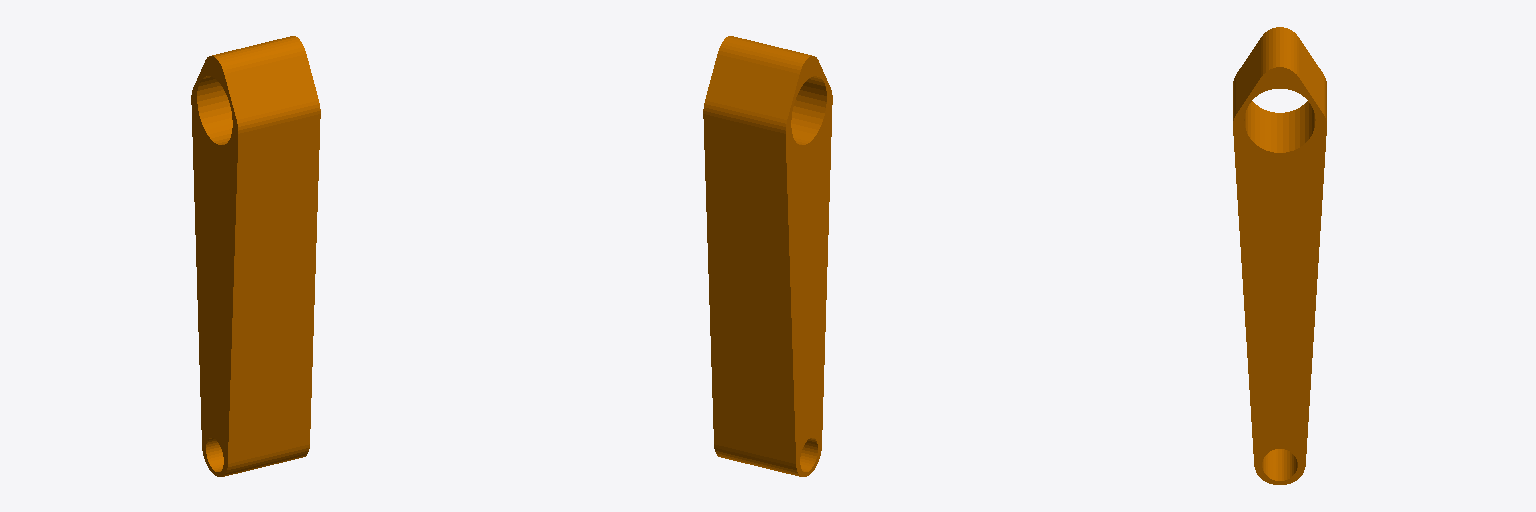
Rendered from r_bt_sus.obj.
3 views of the same model, side by side, from view 1: azimuth 30°, elevation 25°; view 2: azimuth 150°, elevation 25°; view 3: azimuth 270°, elevation 25° (orthographic).
Visible parts, largest first — view 1: viper_R_bt_sus; view 2: viper_R_bt_sus; view 3: viper_R_bt_sus.
Boxes of the visible parts, box(x1,y1,x2,y2) form: viper_R_bt_sus: box(191, 36, 320, 476); viper_R_bt_sus: box(703, 36, 832, 476); viper_R_bt_sus: box(1233, 27, 1326, 484).
Bounding box in the file's own units: 0.08 × 0.3887 × 0.0794.